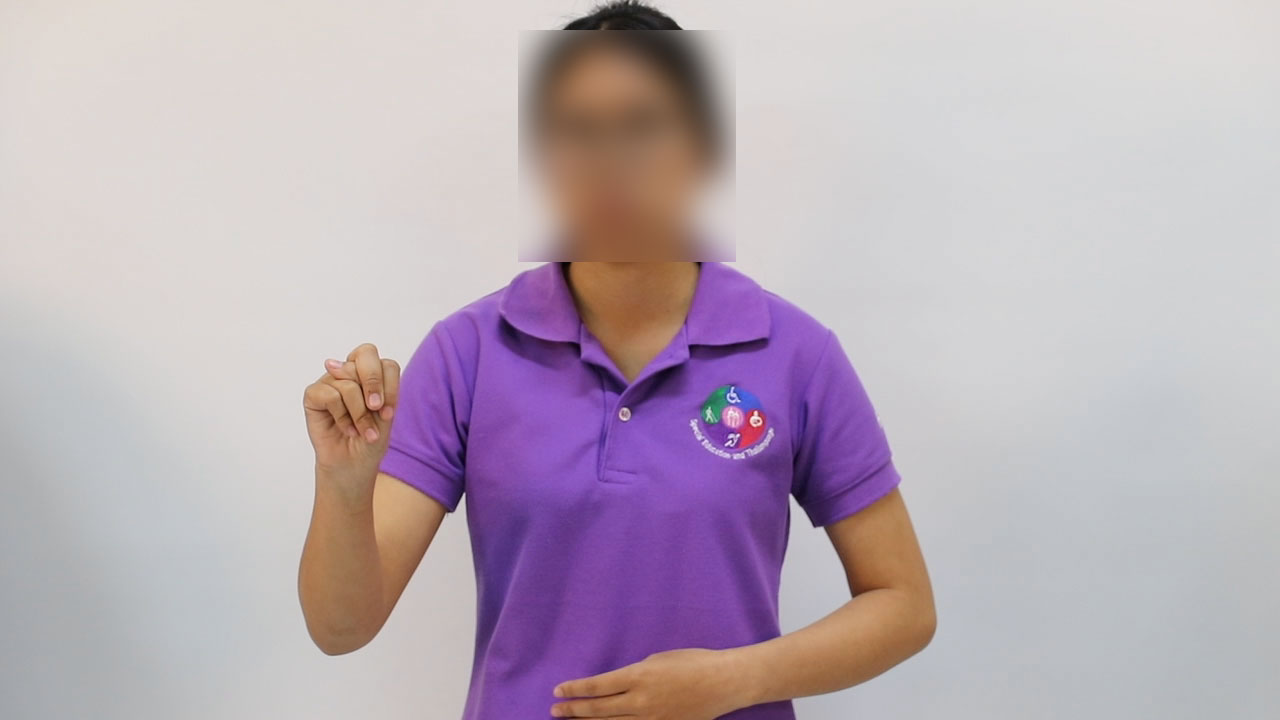nor: (295, 340, 413, 477)
